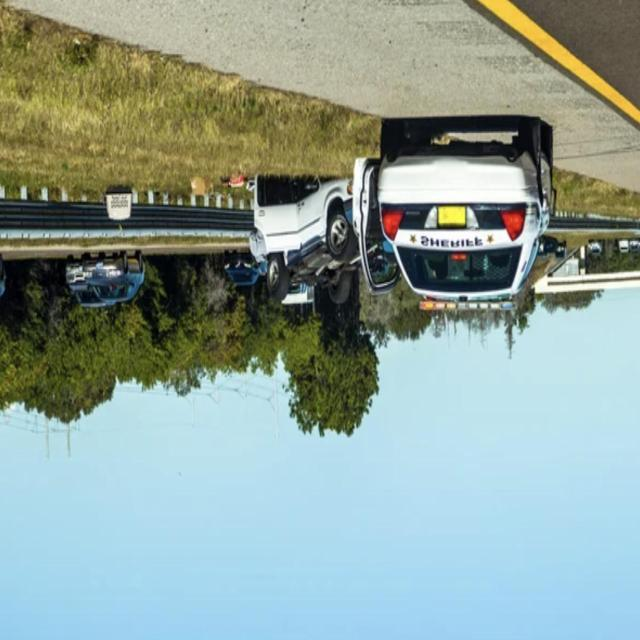severe: (247, 172, 381, 310)
